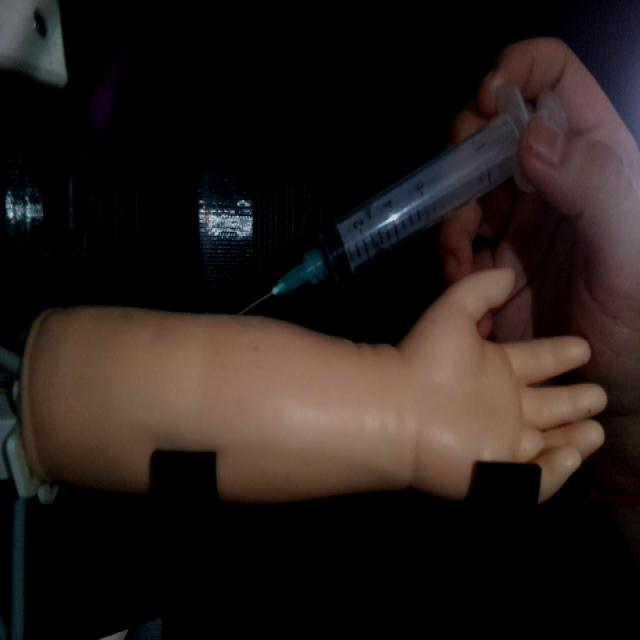Above 30 degrees: (230, 80, 566, 317)
